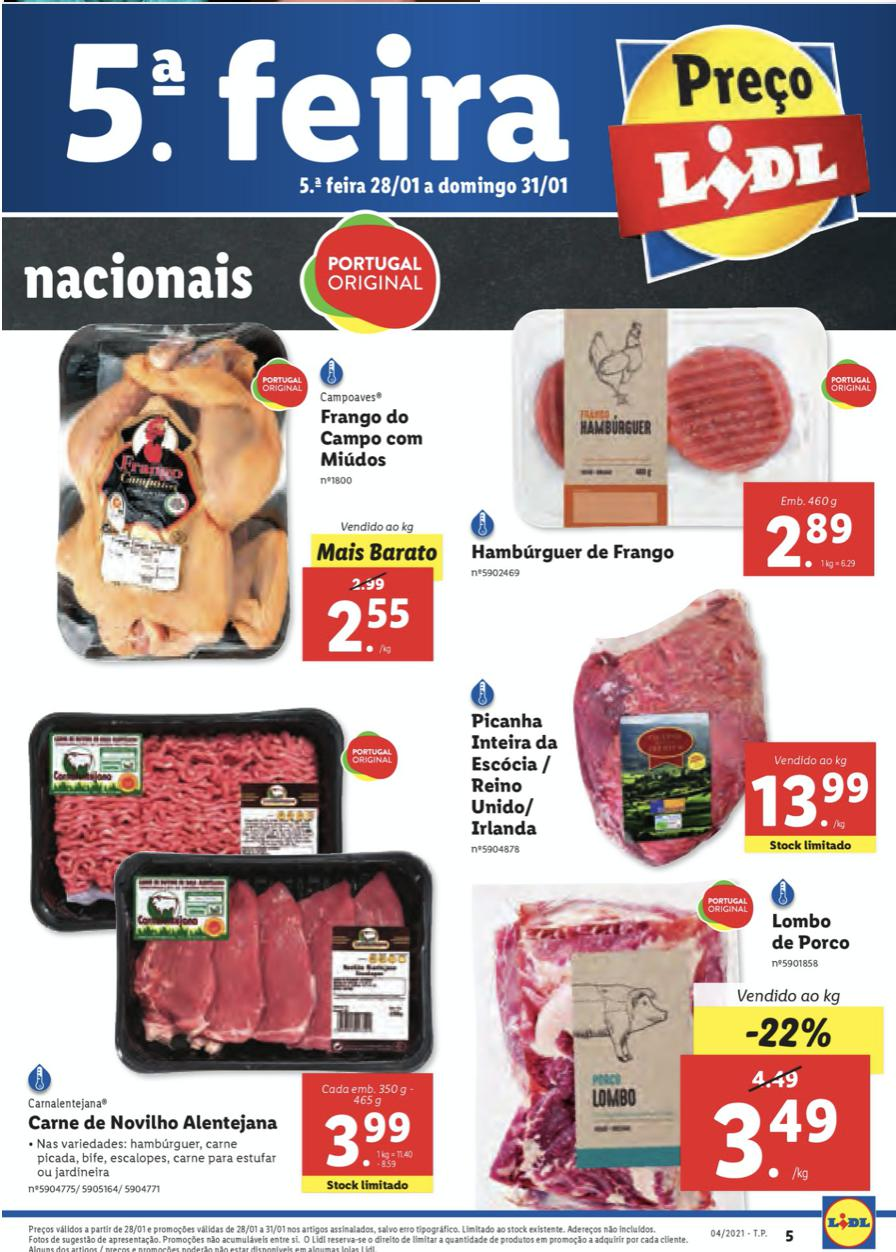name: (466, 708, 562, 839), (315, 403, 430, 470), (24, 1112, 282, 1139), (466, 541, 679, 570), (766, 911, 860, 955)
price: (710, 1086, 840, 1183), (752, 767, 869, 830), (319, 591, 418, 659), (324, 1106, 421, 1167), (760, 511, 854, 572)
product: (21, 697, 443, 1203), (35, 323, 454, 684), (454, 873, 866, 1192), (460, 294, 893, 581), (457, 595, 891, 864)
promotion: (738, 1011, 838, 1055)
